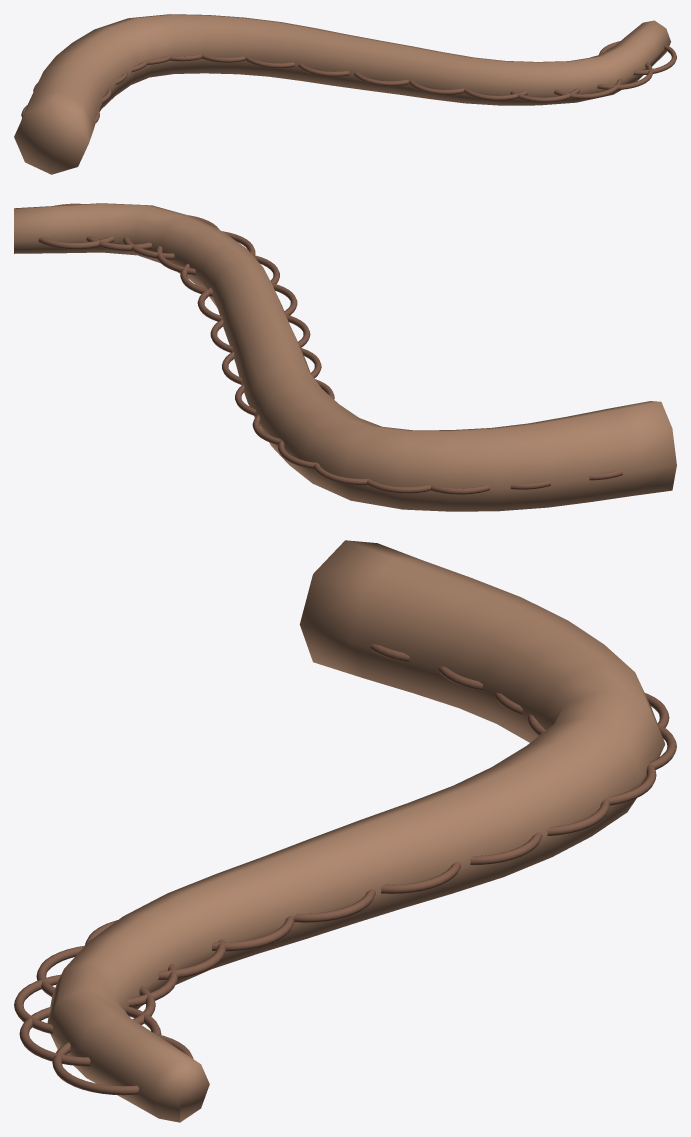
Rendered from props_p10__p10_worm.glb.
3 renders of one model, top to bottom at view 1: azimuth 30°, elevation 25°; view 2: azimuth 150°, elevation 25°; view 3: azimuth 270°, elevation 25°, orthographic. The views are drawn at different scales.
Parts seen in each view (by area): view 1: segmented_worm, reference_static_surfaces; view 2: segmented_worm, reference_static_surfaces; view 3: segmented_worm, reference_static_surfaces.
Boxes of the visible parts, x1=… form: segmented_worm: x1=14, y1=14, x2=670, y2=174; reference_static_surfaces: x1=21, y1=41, x2=676, y2=122; segmented_worm: x1=14, y1=203, x2=676, y2=511; reference_static_surfaces: x1=38, y1=203, x2=622, y2=494; segmented_worm: x1=47, y1=540, x2=665, y2=1122; reference_static_surfaces: x1=14, y1=644, x2=676, y2=1095.
Size of the model in its own units: 0.1156 by 0.013 by 0.0625.
